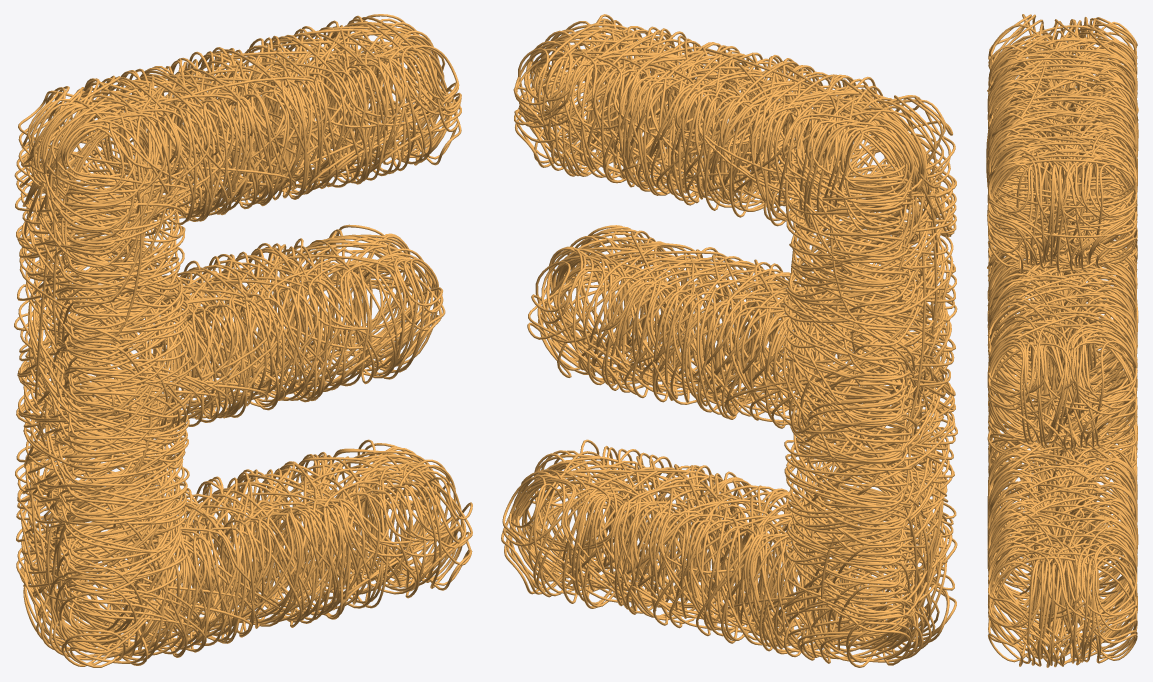
3 renders of one model, left to right at view 1: azimuth 30°, elevation 25°; view 2: azimuth 150°, elevation 25°; view 3: azimuth 270°, elevation 25°, orthographic. The views are drawn at different scales.
Visible parts, largest first — view 1: letter_e; view 2: letter_e; view 3: letter_e.
Boxes of the visible parts, box(x1,y1,x2,y2) form: letter_e: box(14, 14, 472, 667); letter_e: box(501, 14, 957, 667); letter_e: box(986, 14, 1138, 667).
Bounding box in the file's own units: 0.4547 × 0.5905 × 0.1636.
